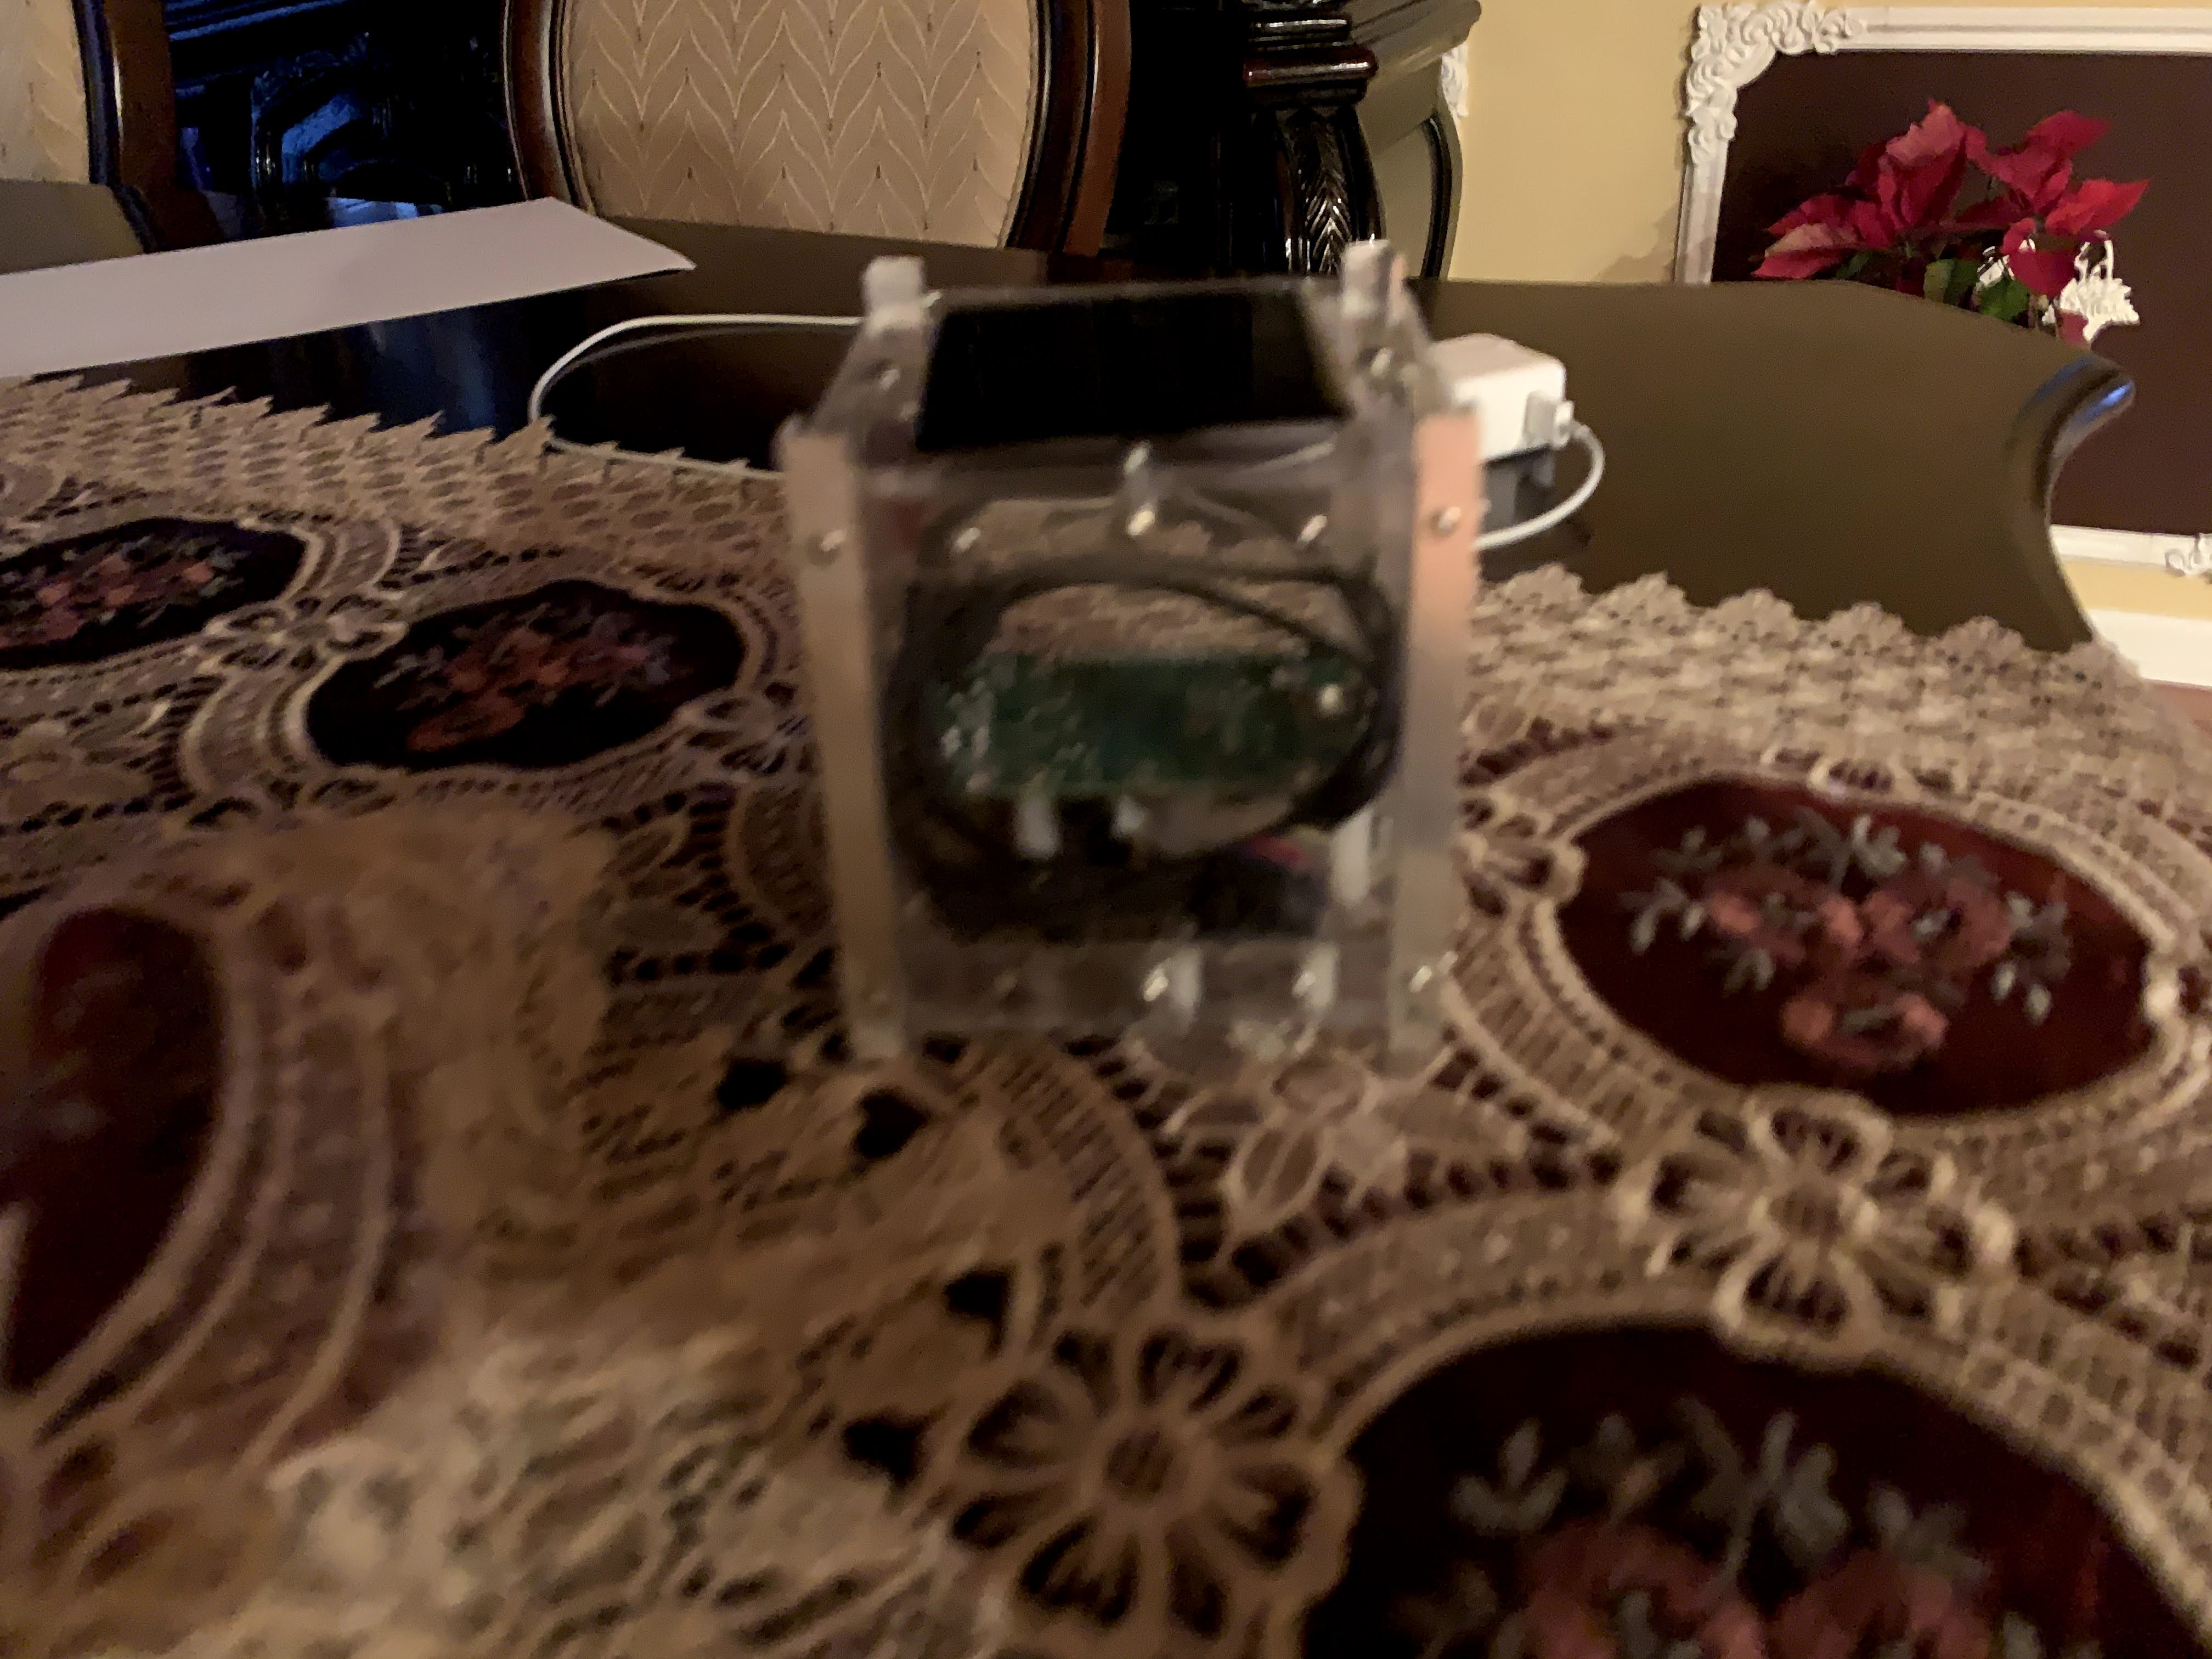Space-debris-cubesat: (761, 232, 1566, 1073)
